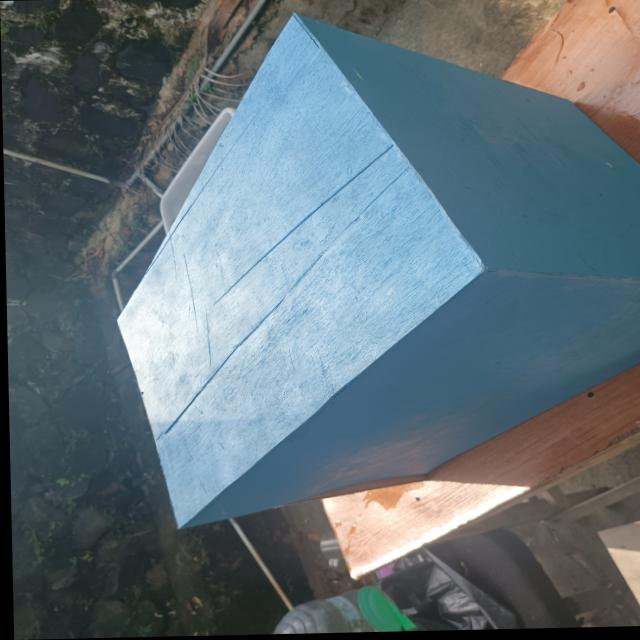blue_box: (107, 2, 640, 534)
